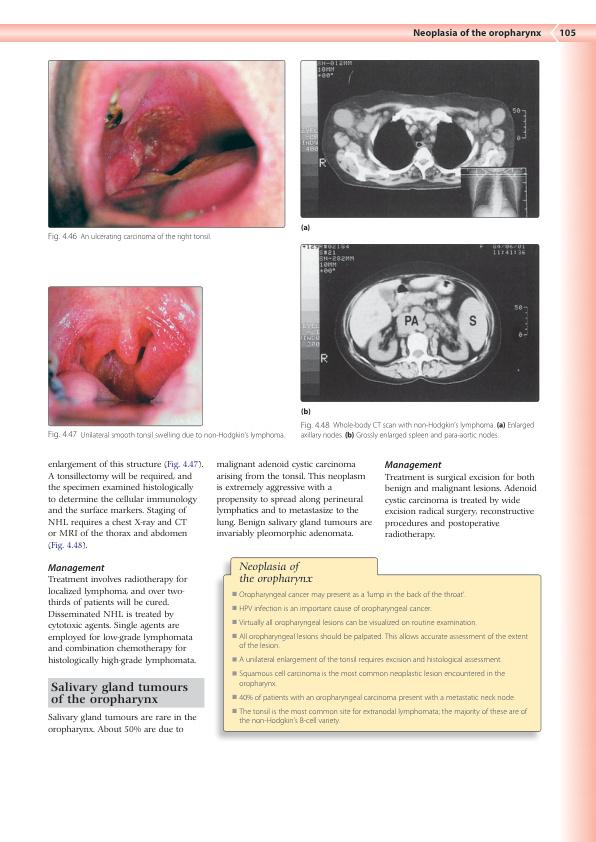caption: (300, 420, 535, 441), (47, 429, 286, 441), (238, 560, 314, 585), (47, 232, 212, 242), (300, 407, 312, 416), (300, 223, 311, 232)
header: (413, 28, 542, 39)
image: (47, 60, 286, 229), (299, 243, 540, 403), (299, 59, 539, 219), (47, 285, 203, 427)
list: (230, 589, 531, 726)
section-heading: (50, 680, 188, 707)
sub-section-heading: (47, 563, 106, 574), (384, 460, 443, 471)
text: (46, 459, 205, 552), (47, 575, 197, 666), (215, 459, 373, 540), (384, 473, 537, 540), (47, 712, 198, 736)
